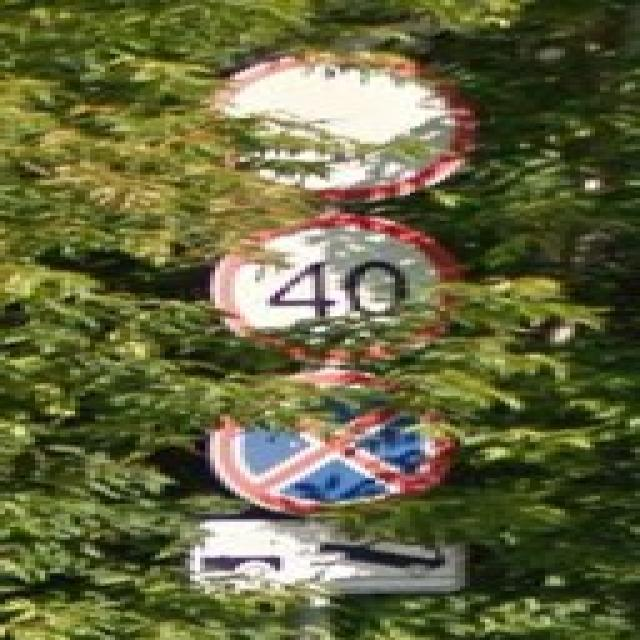Ograniczenie predkosci do 40: (205, 210, 465, 368)
